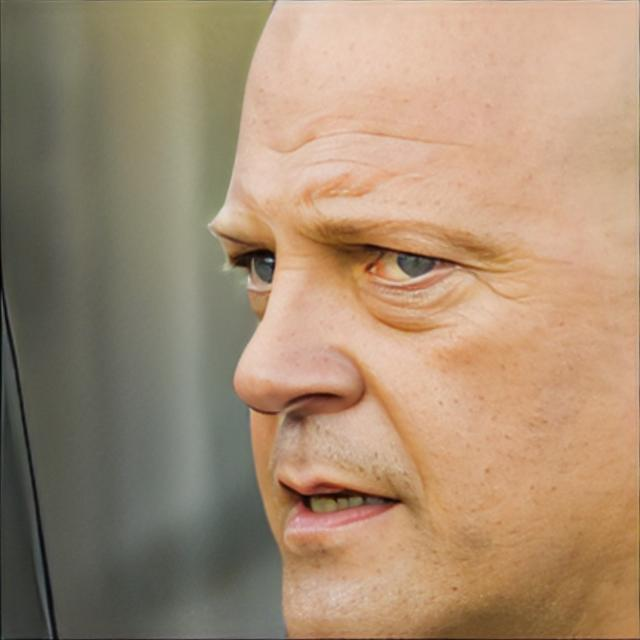disgust: (202, 0, 640, 640)
